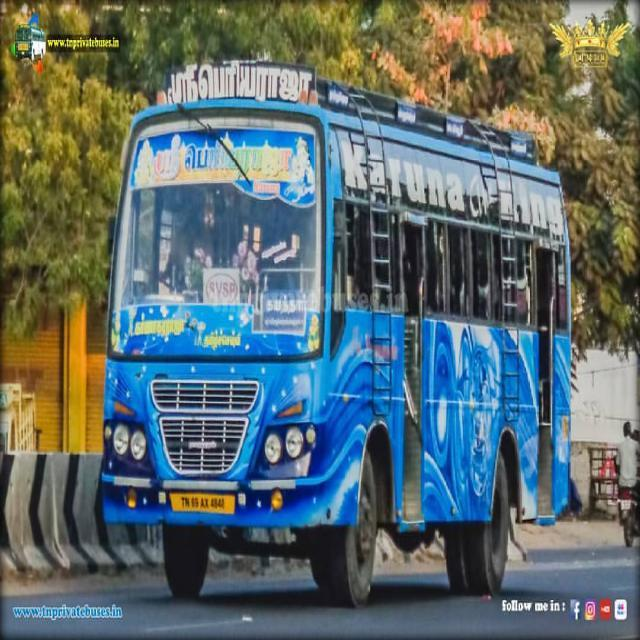Bus: (97, 56, 578, 612)
